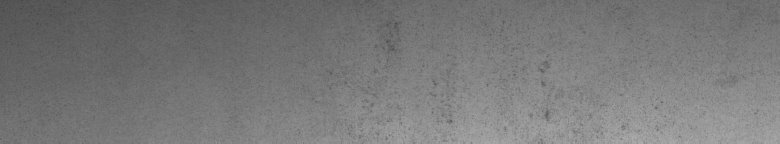ib: (364, 16, 453, 124)
